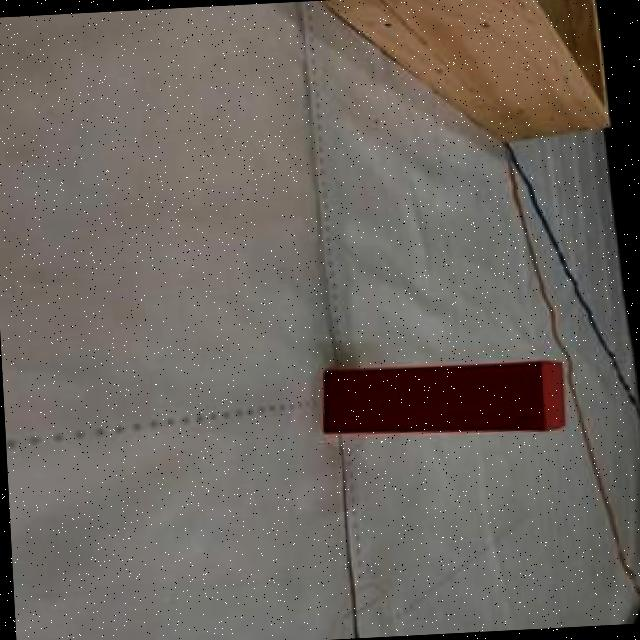redbox: (318, 352, 570, 440)
